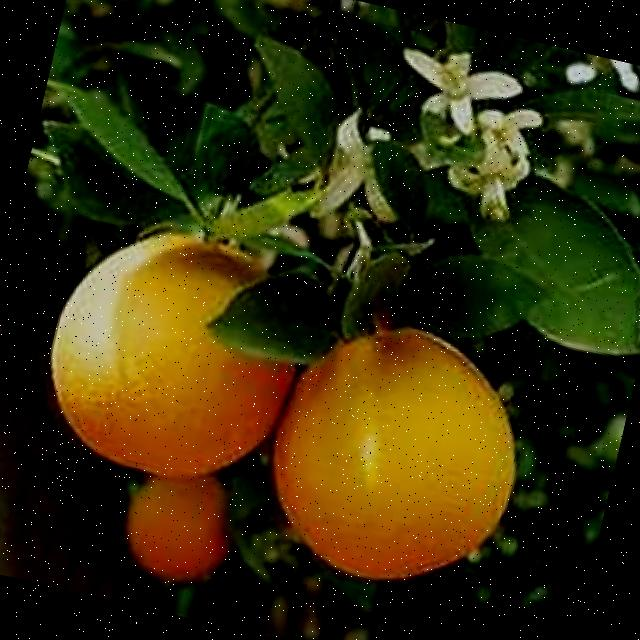orange: (247, 296, 548, 606), (9, 204, 314, 499)
